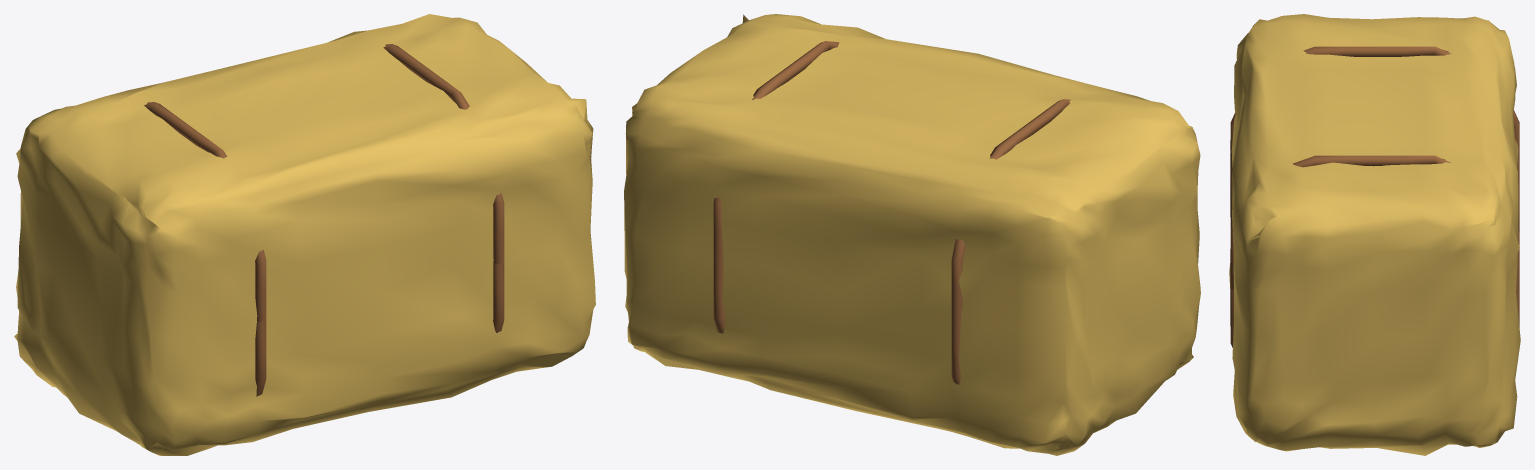
Rendered from HotPotatoHay.obj.
3 views of the same model, side by side, from view 1: azimuth 30°, elevation 25°; view 2: azimuth 150°, elevation 25°; view 3: azimuth 270°, elevation 25° (orthographic). The views are drawn at different scales.
Parts seen in each view (by area): view 1: Hay, Twine; view 2: Hay, Twine; view 3: Hay, Twine.
Part boxes in pixels (x1,y1,x2,y2): Hay: (14,14,595,455); Twine: (144,44,504,396); Hay: (624,14,1200,455); Twine: (713,41,1070,384); Hay: (1229,14,1520,455); Twine: (1230,46,1519,347).
Bounding box in the file's own units: 5.12 × 2.93 × 2.93.
